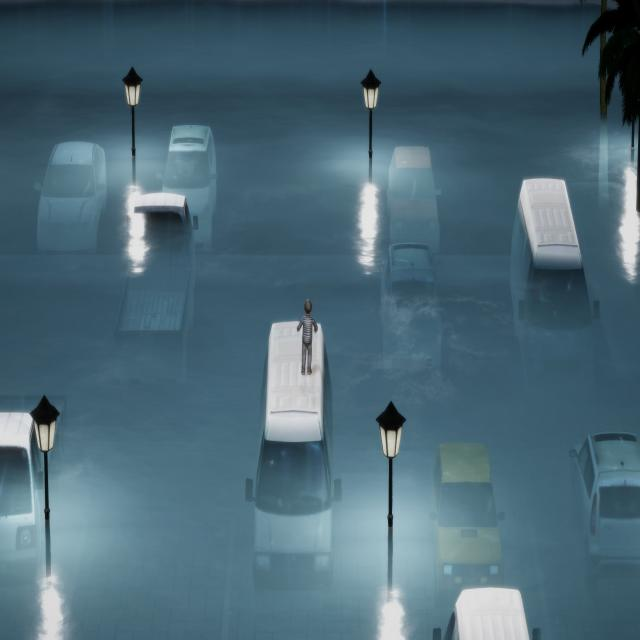Human: (293, 290, 320, 386)
